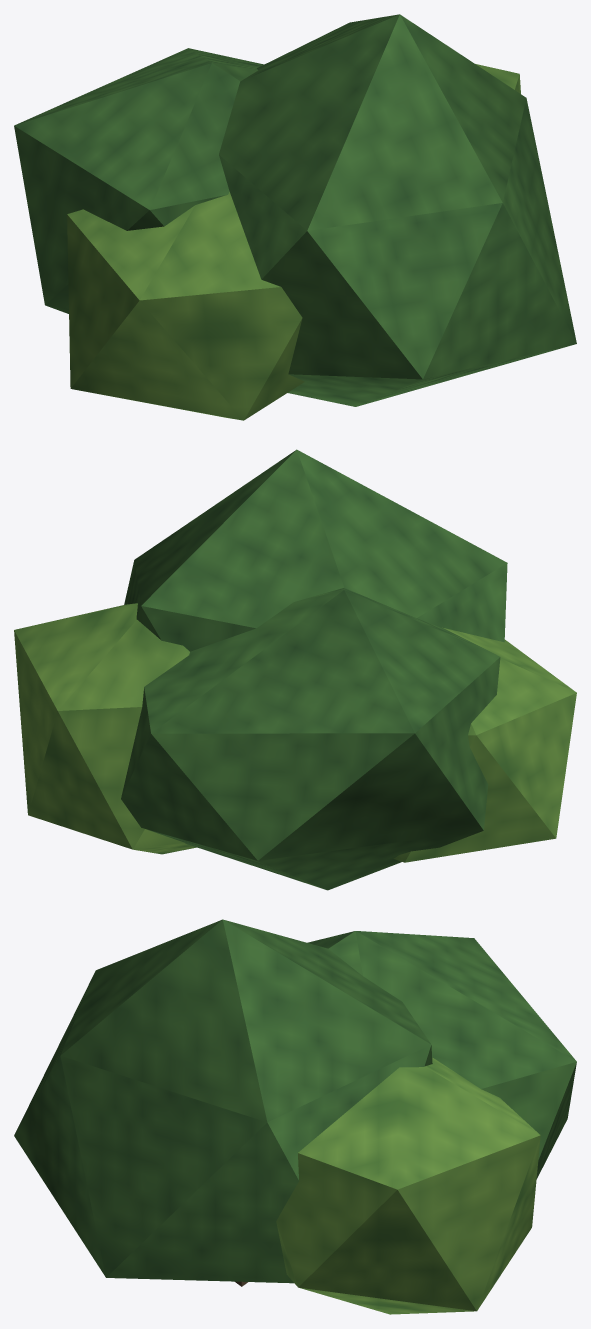
Rendered from SM_Bush02_LOD1.fbx.
3 renders of one model, top to bottom at view 1: azimuth 30°, elevation 25°; view 2: azimuth 150°, elevation 25°; view 3: azimuth 270°, elevation 25°, orthographic. The views are drawn at different scales.
Visible parts, largest first — view 1: SM_Bush02_LOD1; view 2: SM_Bush02_LOD1; view 3: SM_Bush02_LOD1.
Part boxes in pixels (bbox=[...]): SM_Bush02_LOD1: bbox=[14, 14, 576, 420]; SM_Bush02_LOD1: bbox=[14, 449, 576, 890]; SM_Bush02_LOD1: bbox=[14, 919, 576, 1314].
Size of the model in its own units: 3.87 by 2.75 by 3.81.
1 material, 1 textured.
